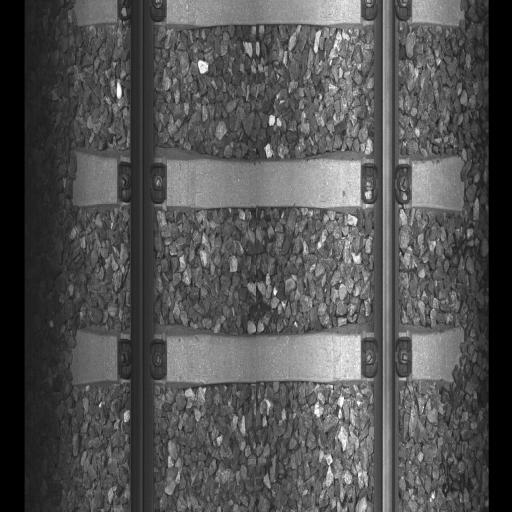clips: (361, 161, 414, 203), (118, 160, 166, 205), (360, 338, 412, 379), (117, 335, 165, 378), (362, 3, 412, 21), (120, 6, 163, 22)
sleepers: (71, 150, 466, 214), (70, 327, 464, 390), (72, 4, 464, 26)
